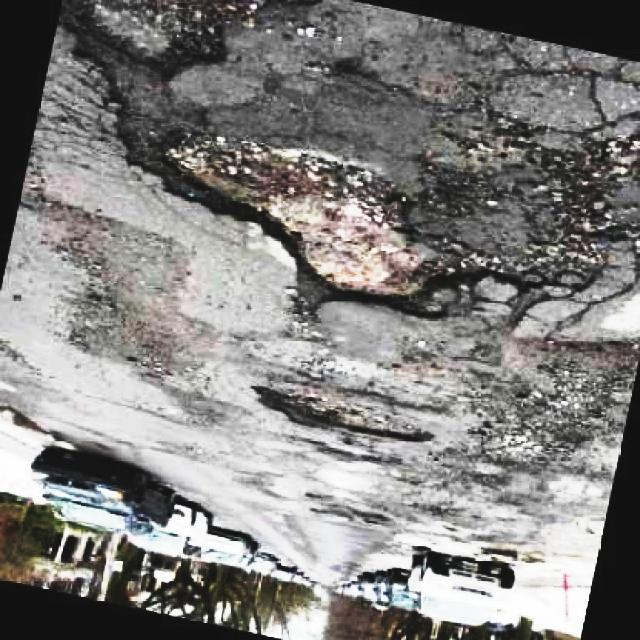pothole: (152, 122, 465, 320), (478, 331, 640, 475), (78, 0, 250, 78), (252, 380, 428, 449)
